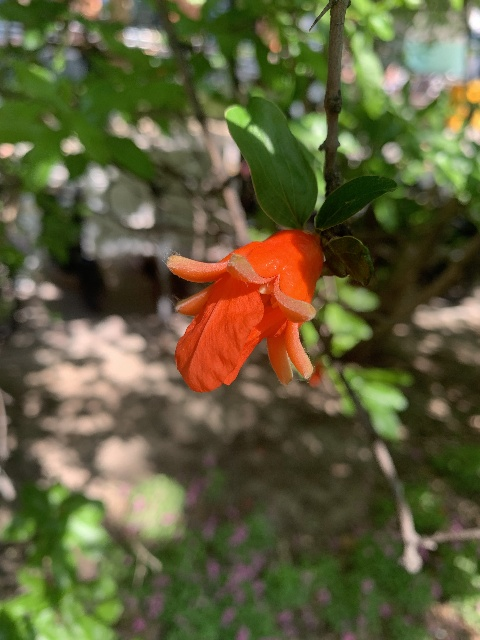flower: (167, 227, 323, 392)
